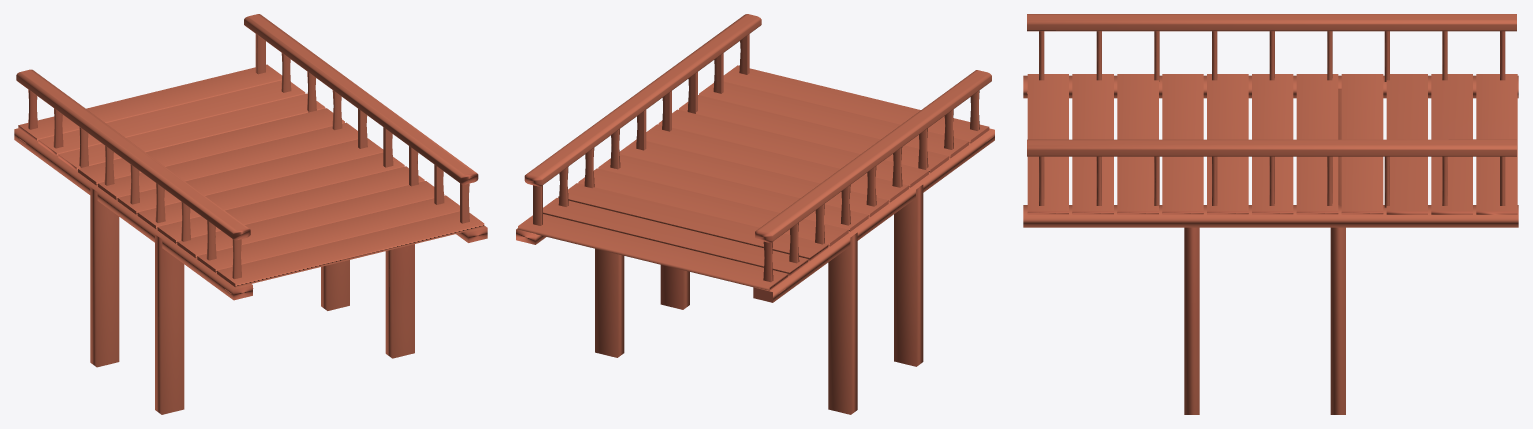
File: Bridge.fbx
3 views of the same model, side by side, from view 1: azimuth 30°, elevation 25°; view 2: azimuth 150°, elevation 25°; view 3: azimuth 270°, elevation 25° (orthographic). The views are drawn at different scales.
Parts seen in each view (by area): view 1: Bridge; view 2: Bridge; view 3: Bridge.
Boxes of the visible parts, left/top/right/bottom form: Bridge: left=14, top=14, right=487, bottom=414; Bridge: left=516, top=14, right=994, bottom=414; Bridge: left=1023, top=14, right=1518, bottom=414.
Bounding box in the file's own units: 638 × 560 × 952.
